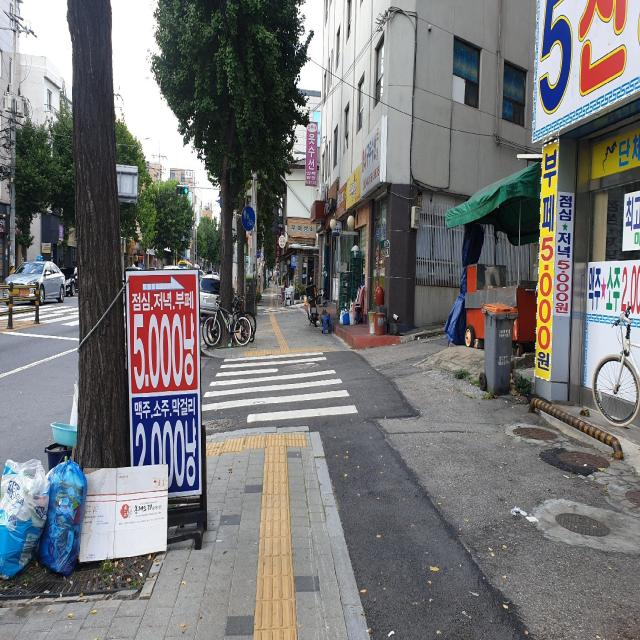횡단보도: (201, 351, 359, 424)
